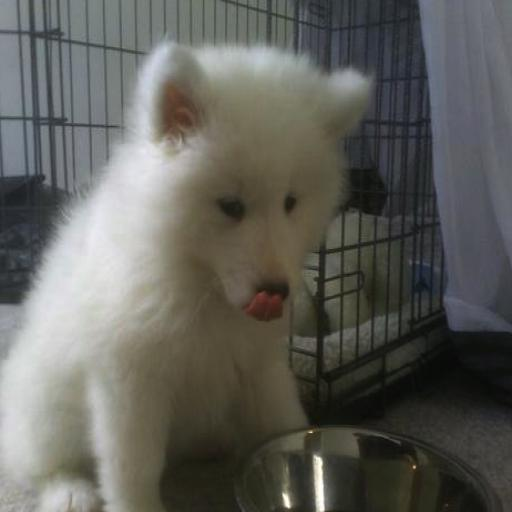dog_face: (134, 56, 367, 323)
